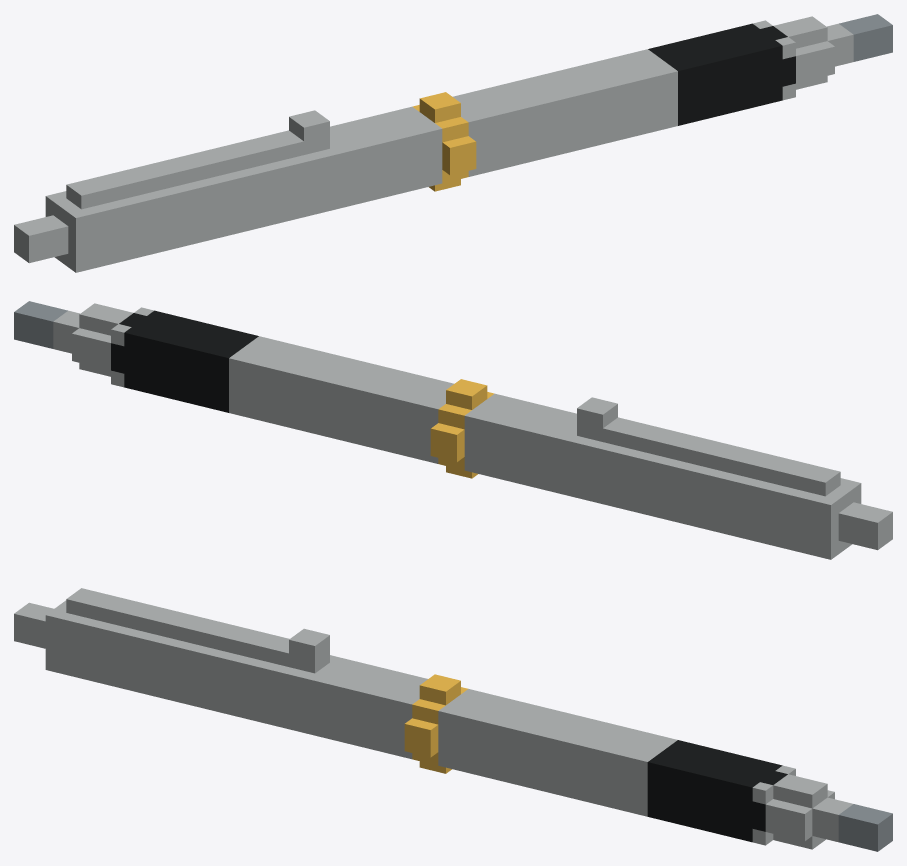
File: pen.glb
3 renders of one model, top to bottom at view 1: azimuth 30°, elevation 25°; view 2: azimuth 150°, elevation 25°; view 3: azimuth 330°, elevation 25°, orthographic.
Parts seen in each view (by area): view 1: pen:compound; view 2: pen:compound; view 3: pen:compound.
Part boxes in pixels (box(x1,y1,x2,y2)): pen:compound: box(14, 14, 892, 272); pen:compound: box(14, 301, 892, 559); pen:compound: box(14, 588, 892, 851).
Size of the model in its own units: 0.132 by 0.014 by 0.012.
